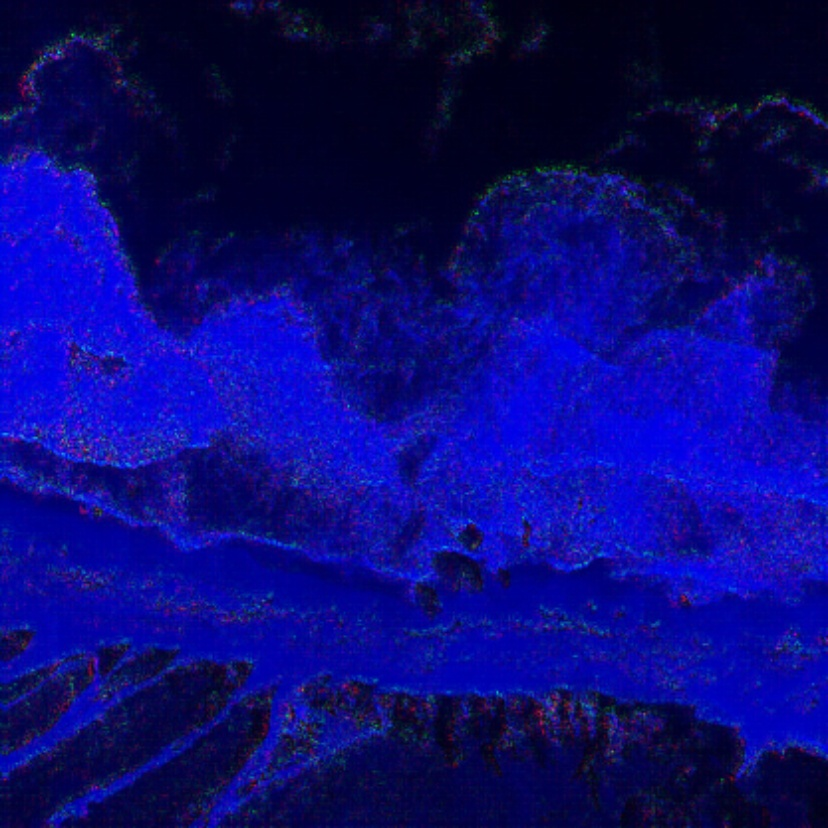rip_current: (321, 159, 676, 479)
